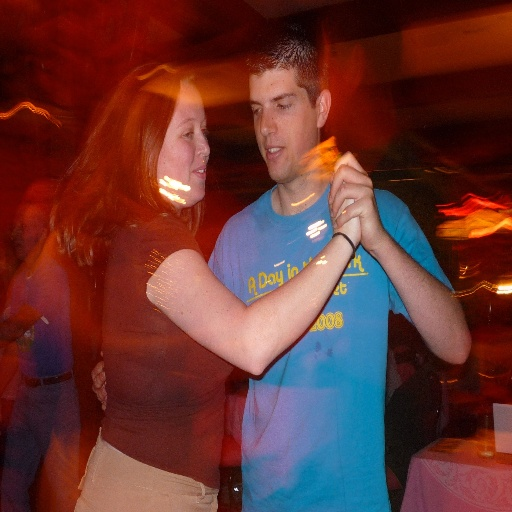hand: (328, 172, 361, 248), (90, 349, 107, 410)
